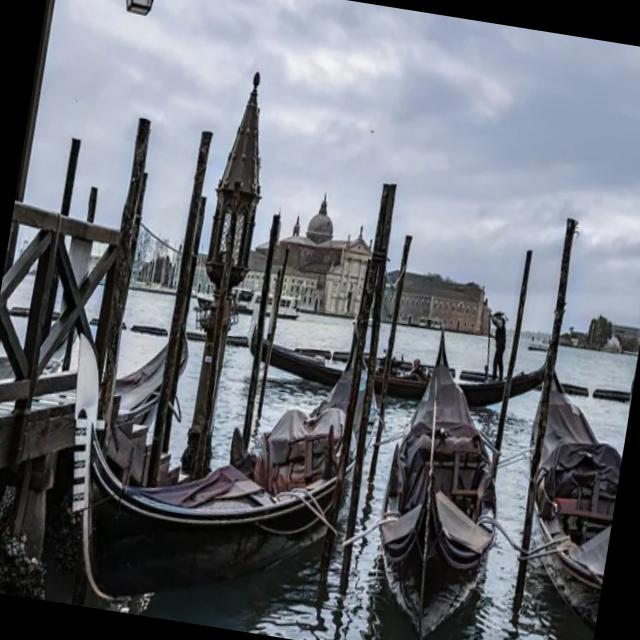boat: (24, 251, 400, 640), (352, 302, 535, 640), (490, 321, 640, 640)
